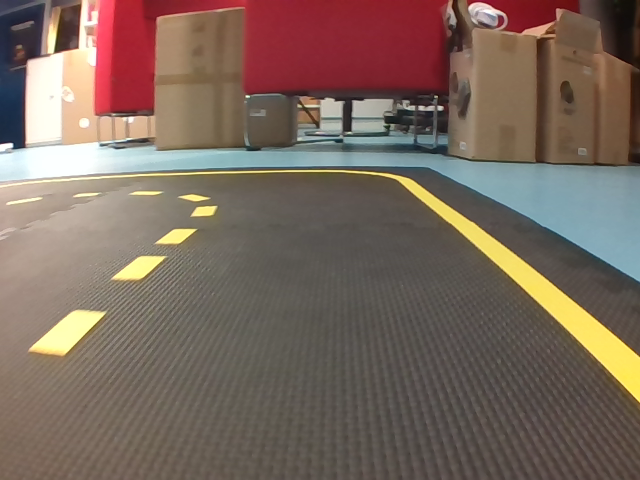no30: (439, 89, 476, 130)
stop: (166, 104, 178, 136)
